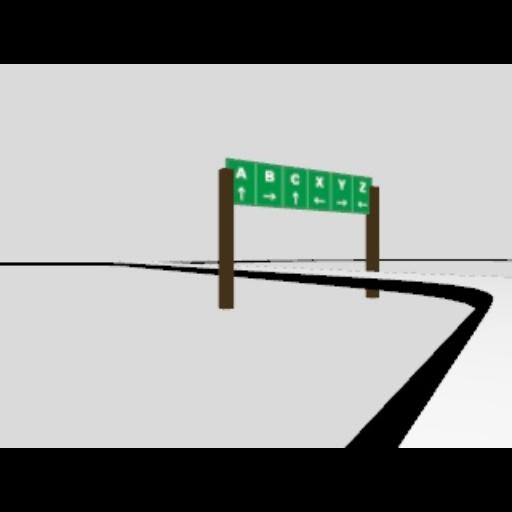A: (236, 166, 246, 180)
B: (264, 170, 274, 182)
C: (289, 172, 299, 186)
Left: (312, 195, 326, 203), (357, 200, 367, 208)
Right: (334, 198, 348, 206), (262, 192, 276, 200)
Straight: (291, 191, 299, 205), (237, 186, 245, 200), (291, 191, 297, 205)
X: (313, 174, 323, 188)
Y: (338, 178, 346, 188)
Z: (358, 180, 366, 192)
